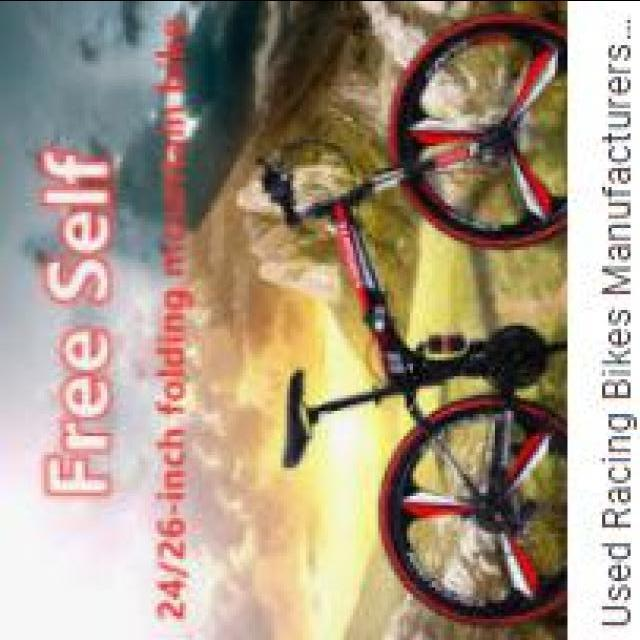bicycle: (266, 10, 566, 622)
